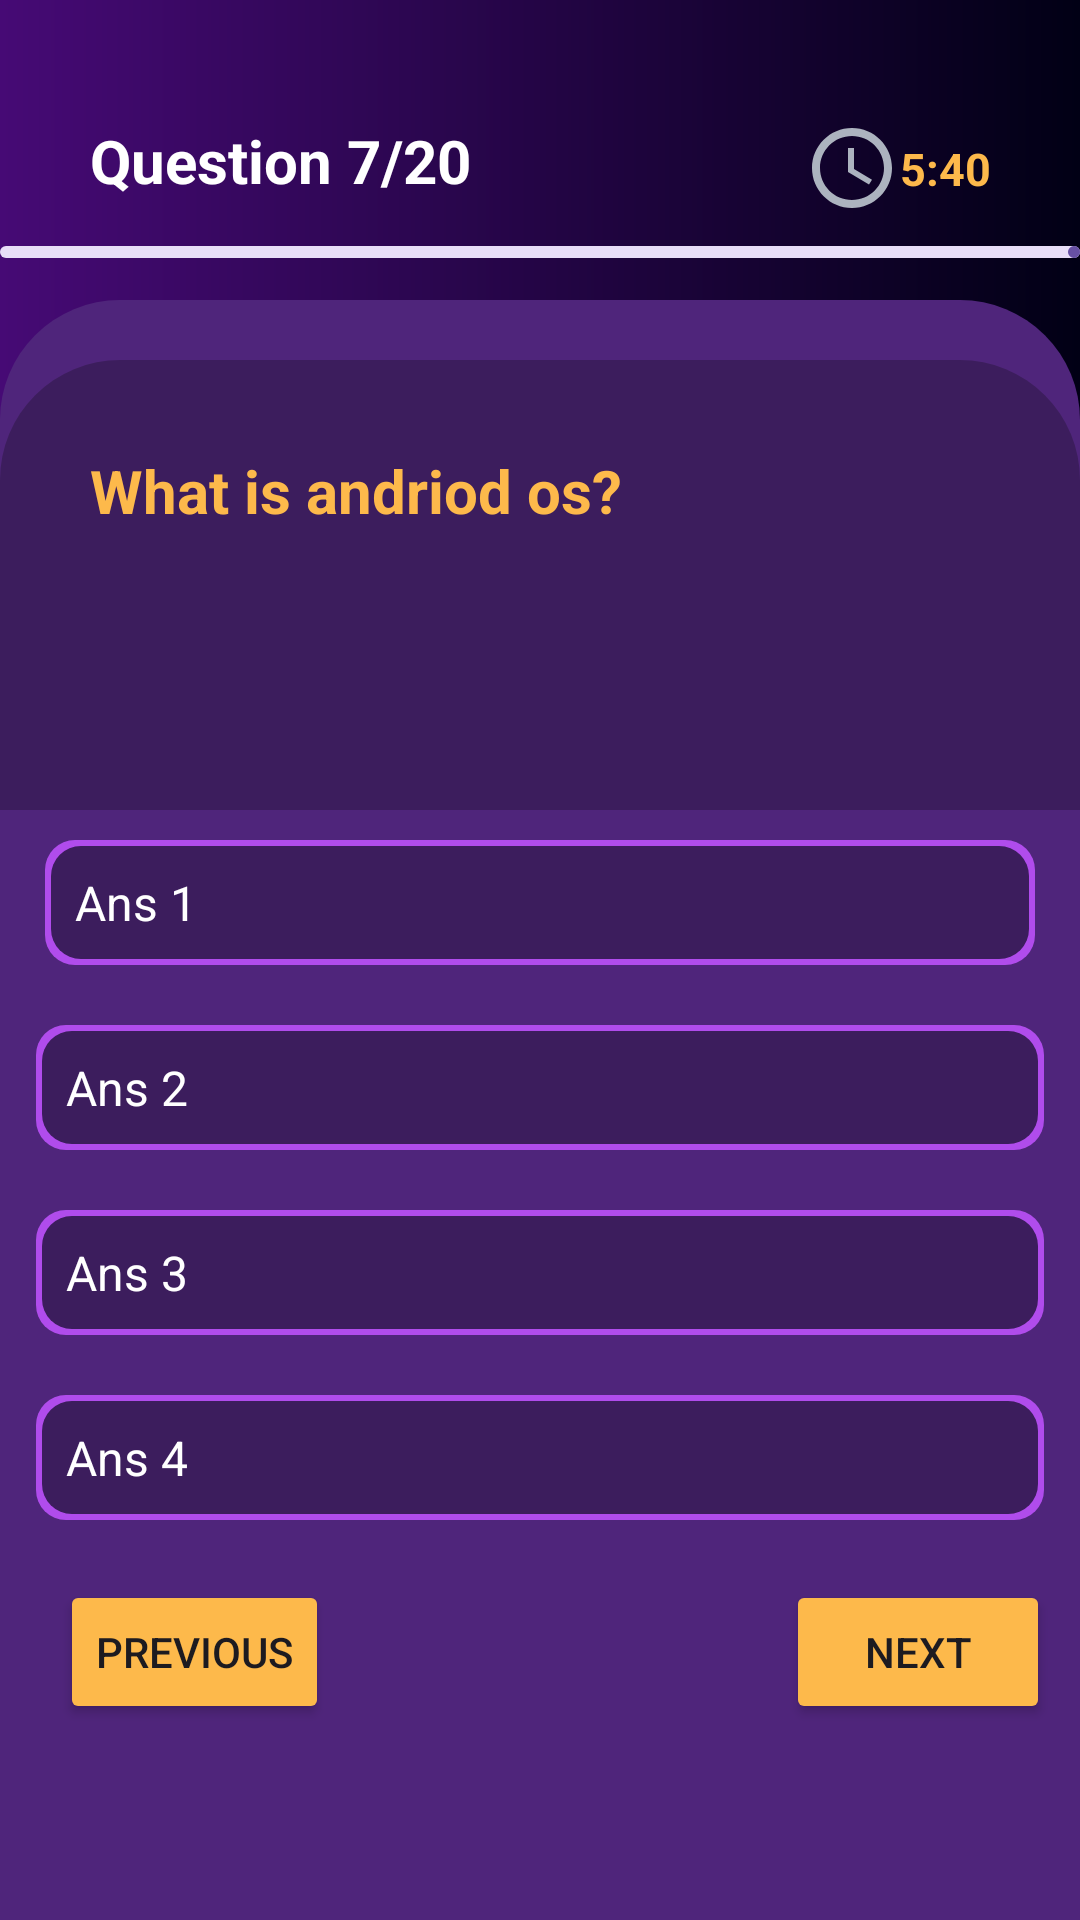

Named icons in this screenshot (1080px x 1920px) and their centers, (x,y):
timer: (852,168)
